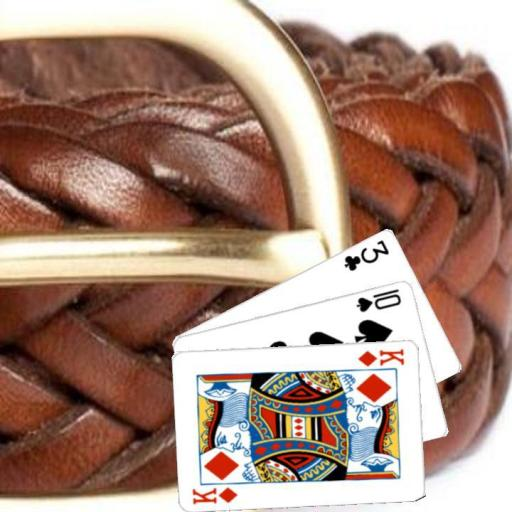10S: (353, 285, 403, 314)
3C: (341, 236, 391, 272)
KD: (355, 346, 406, 368), (190, 484, 239, 506)
